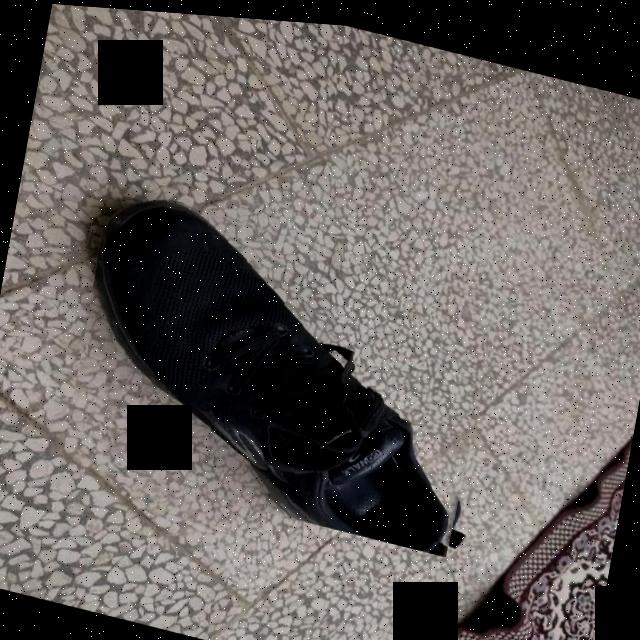shoe: (62, 179, 506, 555)
